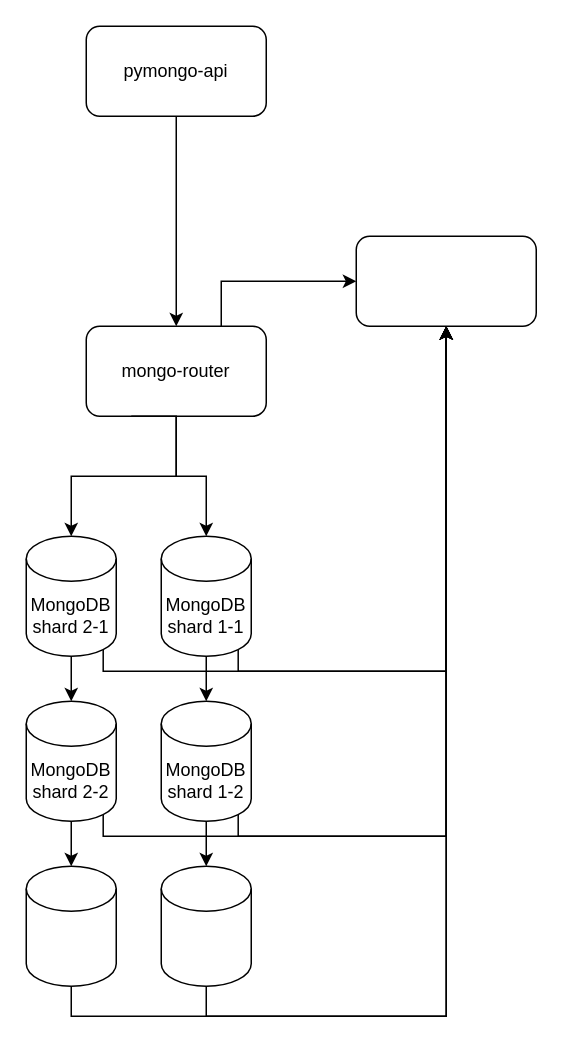
The diagram is 563 pixels wide and 1055 high, and some of its shapes have lost their labels. Each missing label, with the centre of its shape:
configSrv: point (445, 280)
MongoDB shard 1-3: point (205, 925)
MongoDB shard 2-3: point (70, 925)
